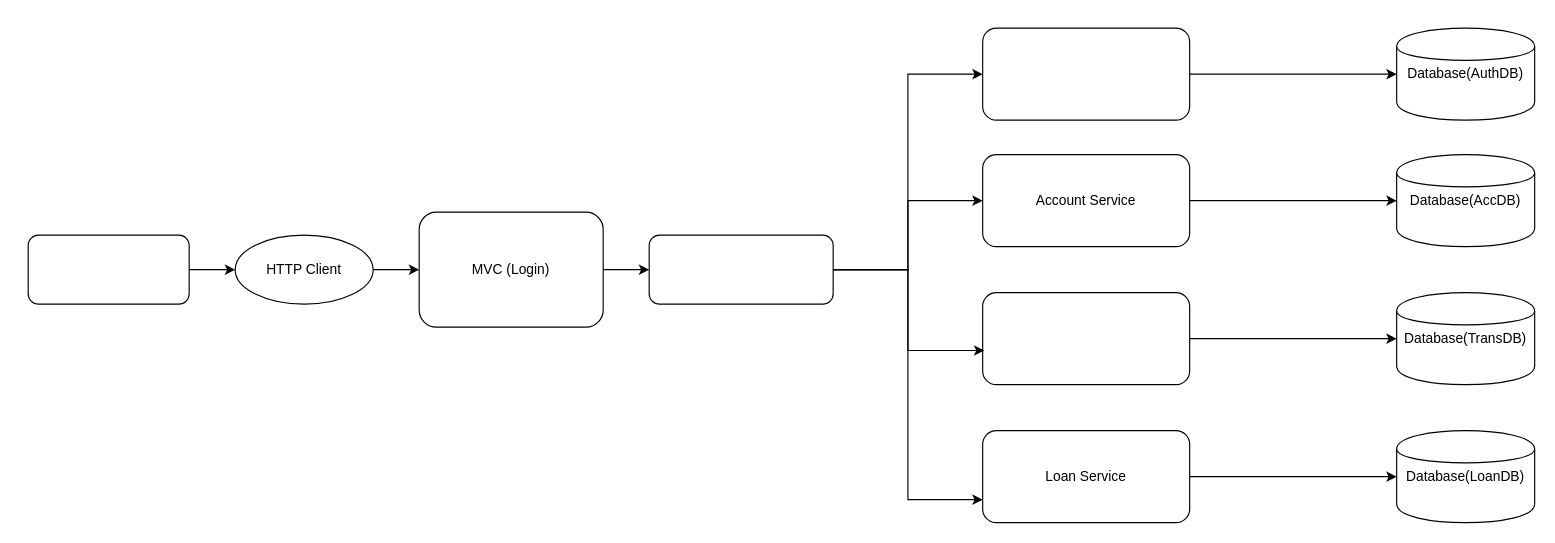
Some shapes in this 1555 by 543 pixel diagram are drawn without their labels. Each missing label, with the centre of its shape:
API Gateway: point 740,269
Auth Service: point 1086,73
Browser / Client: point 108,269
Transaction Service: point 1086,338
